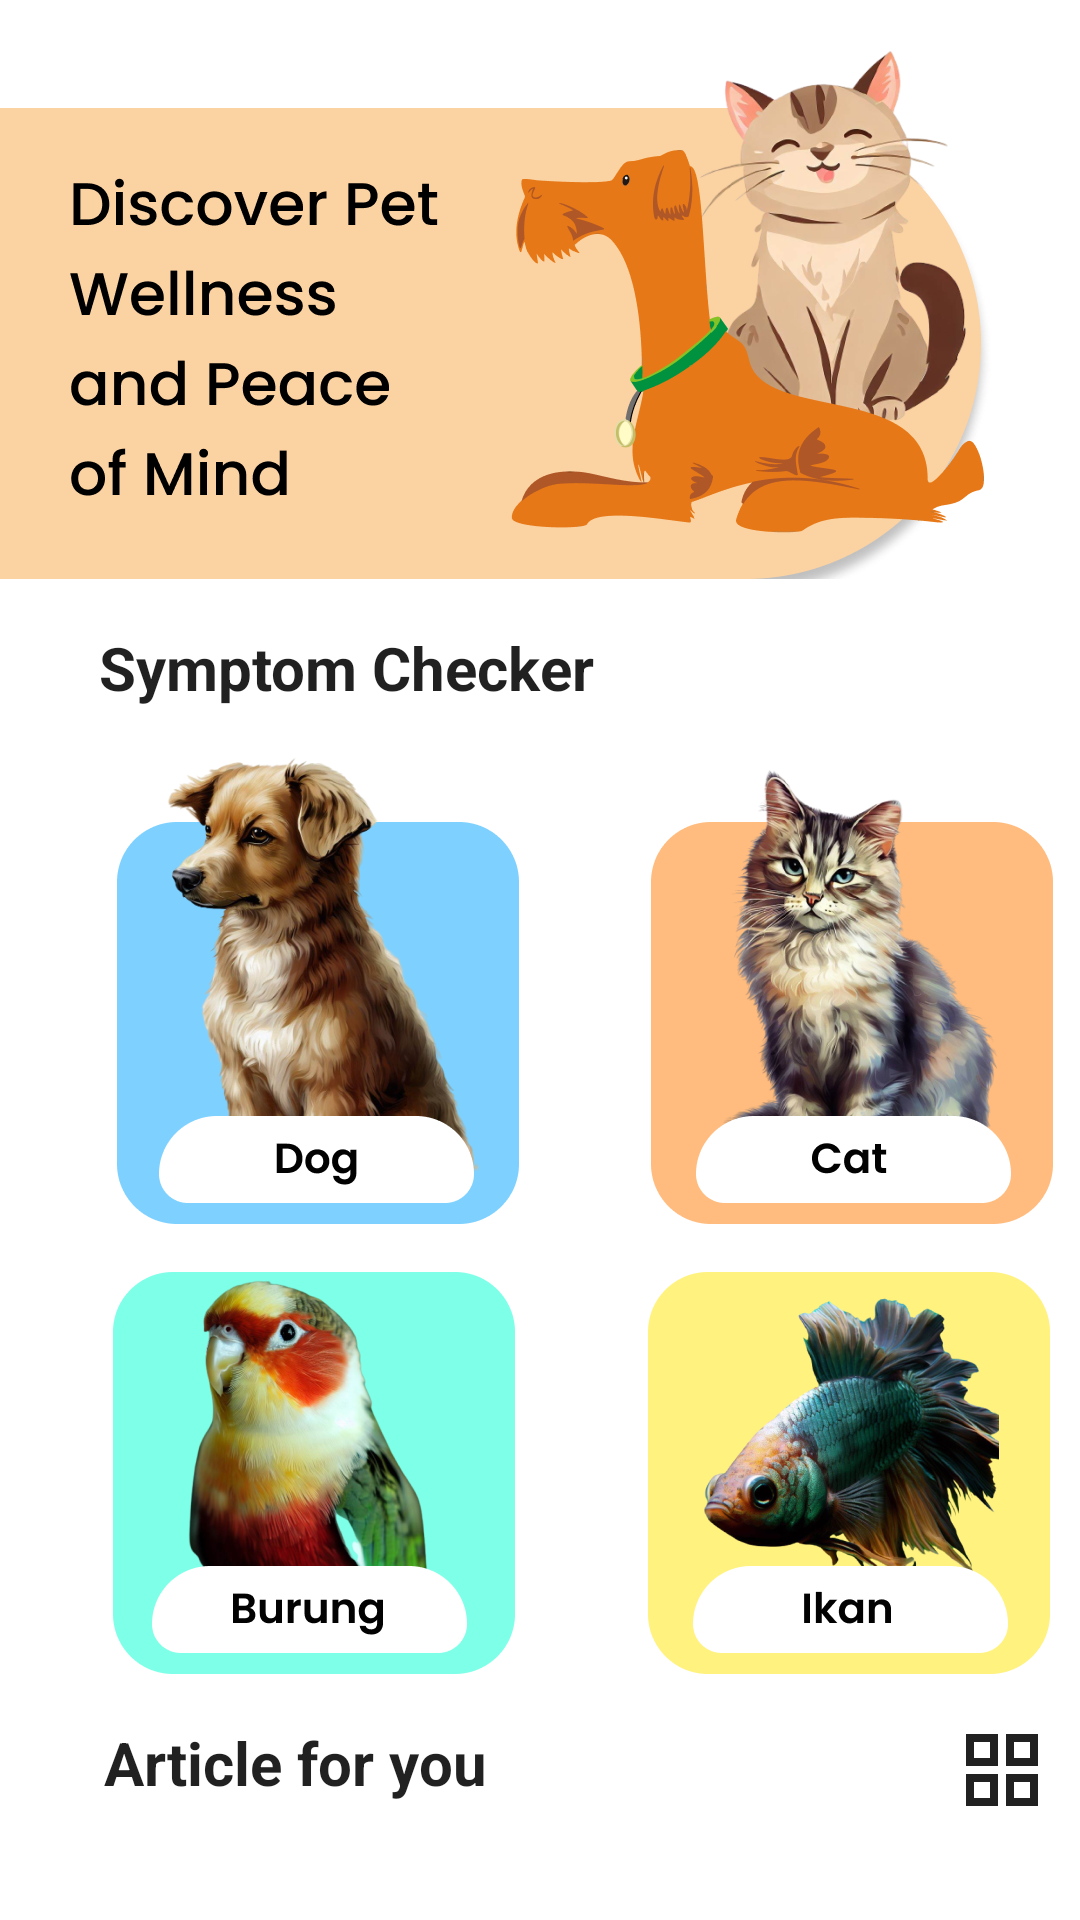

Icons on this 1080w x 1920h Android screen, each with its box as box=[x1, y1, x2, y2]:
grid view: box=[966, 1734, 1038, 1806]
